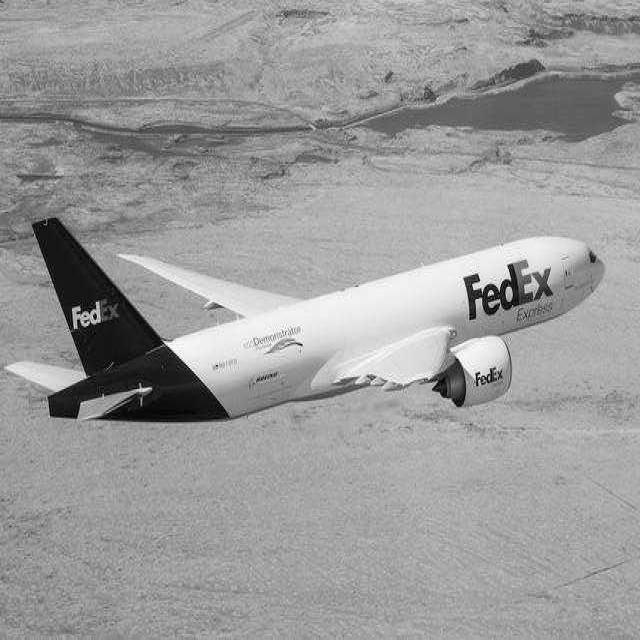Aircraft: (8, 198, 609, 403)
